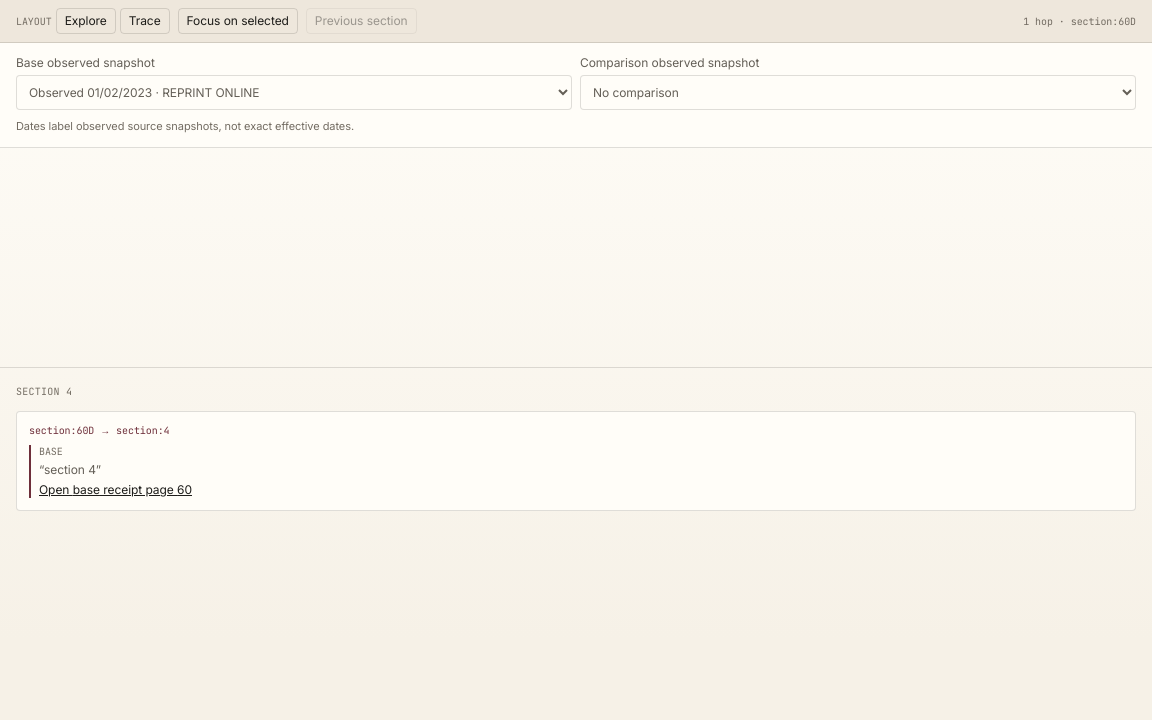
Test: reference graph explorer › keeps Previous section inside the explorer's own history in route-controlled mode
Expected: the element with test id "reference-graph-canvas" is shown, left=0, top=148, right=1151, bottom=368
Expected: the button "Previous section" is disabled, left=306, top=8, right=417, bottom=34
Click the button "Focus on selected" at (238, 21), box left=178, top=8, right=298, bottom=34
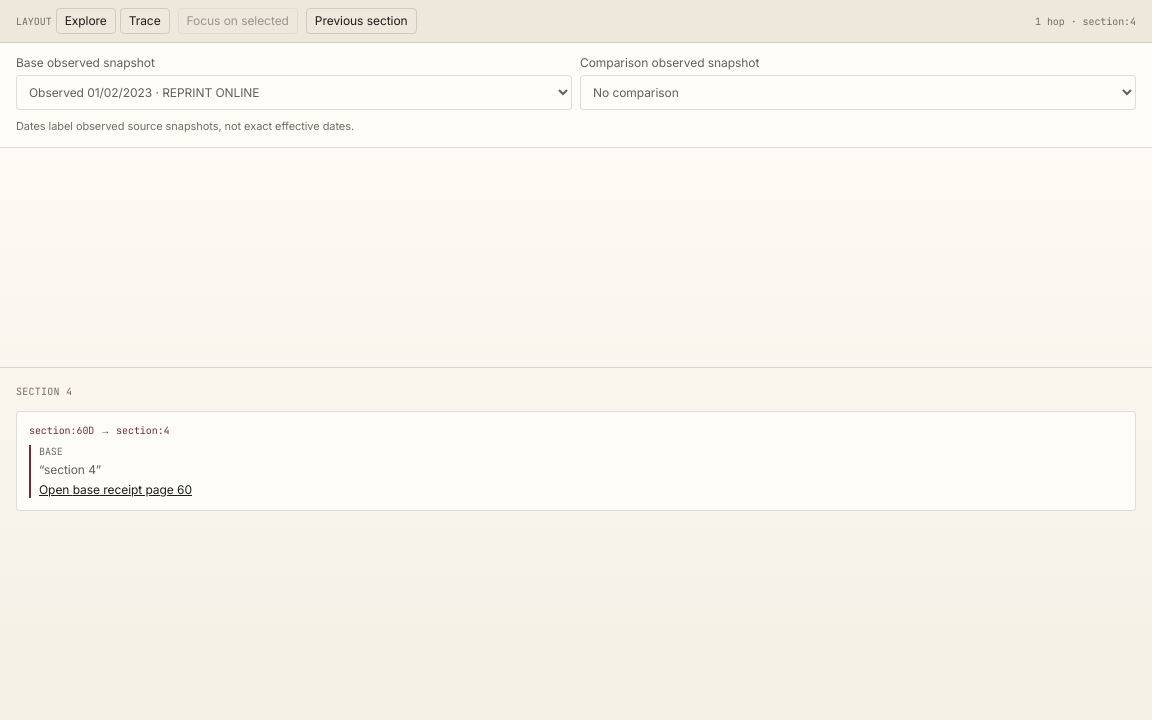
Expected: the text "1 hop · section:4" is shown, left=1035, top=14, right=1136, bottom=28
Expected: the button "Previous section" is enabled
Click the button "Previous section" at (361, 21), box left=306, top=8, right=417, bottom=34
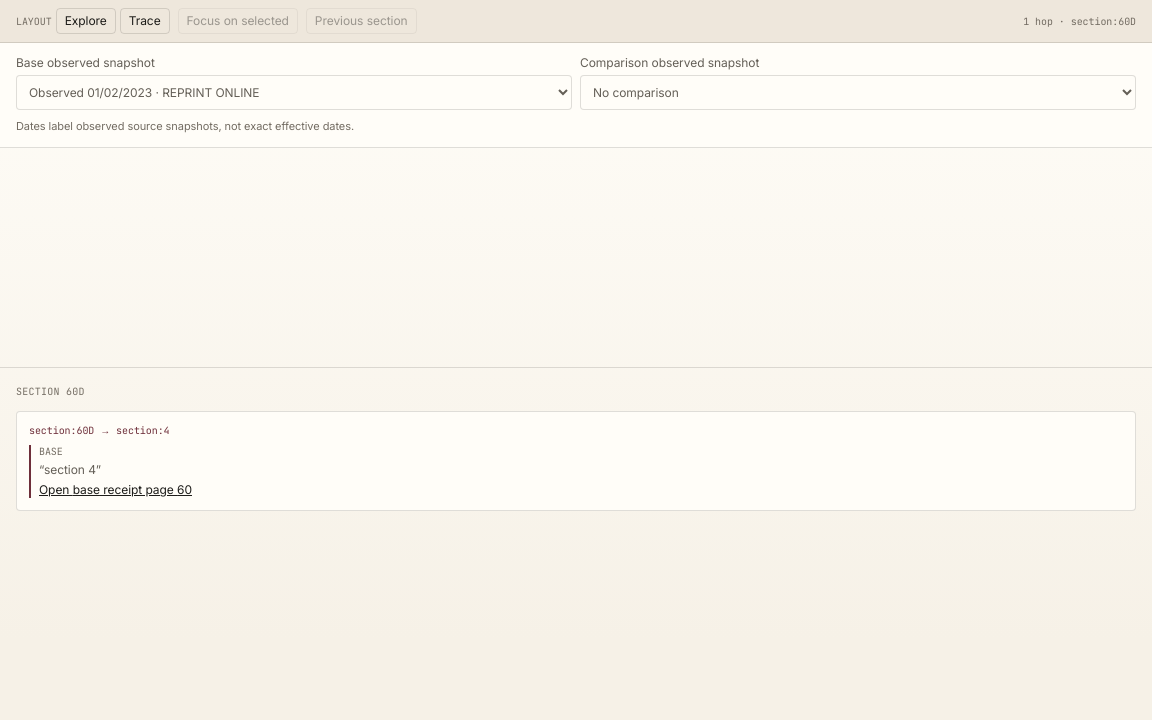
Expected: the text "1 hop · section:60D" is shown, left=1023, top=14, right=1136, bottom=28
Expected: the button "Previous section" is disabled, left=306, top=8, right=417, bottom=34
